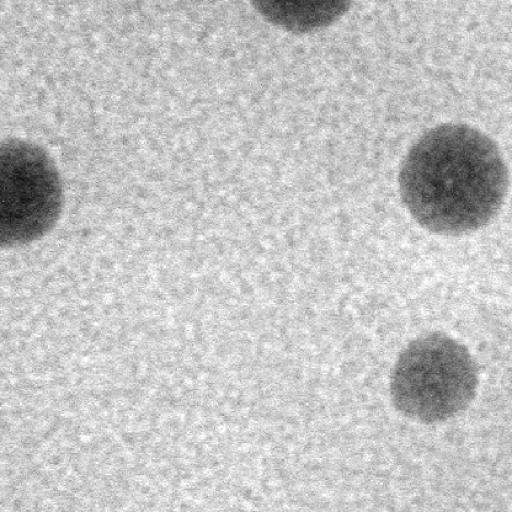Nanoparticles: (395, 117, 512, 241), (386, 325, 489, 426), (0, 129, 65, 261), (242, 0, 358, 36)
